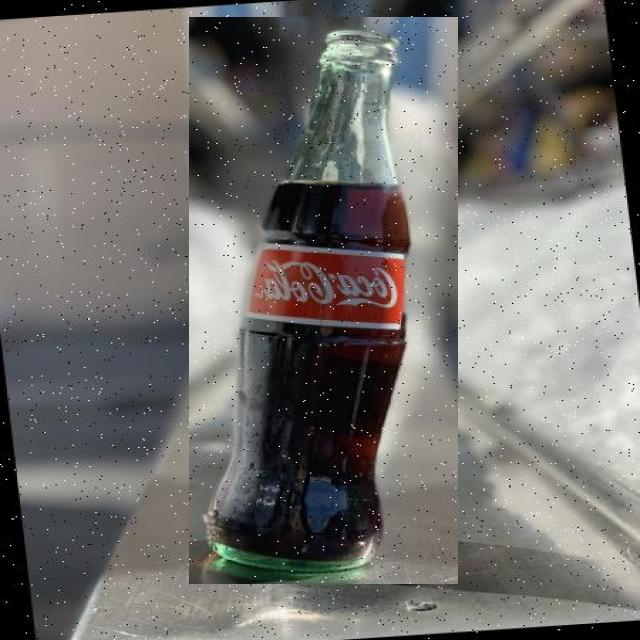coca-cola: (189, 17, 458, 584)
